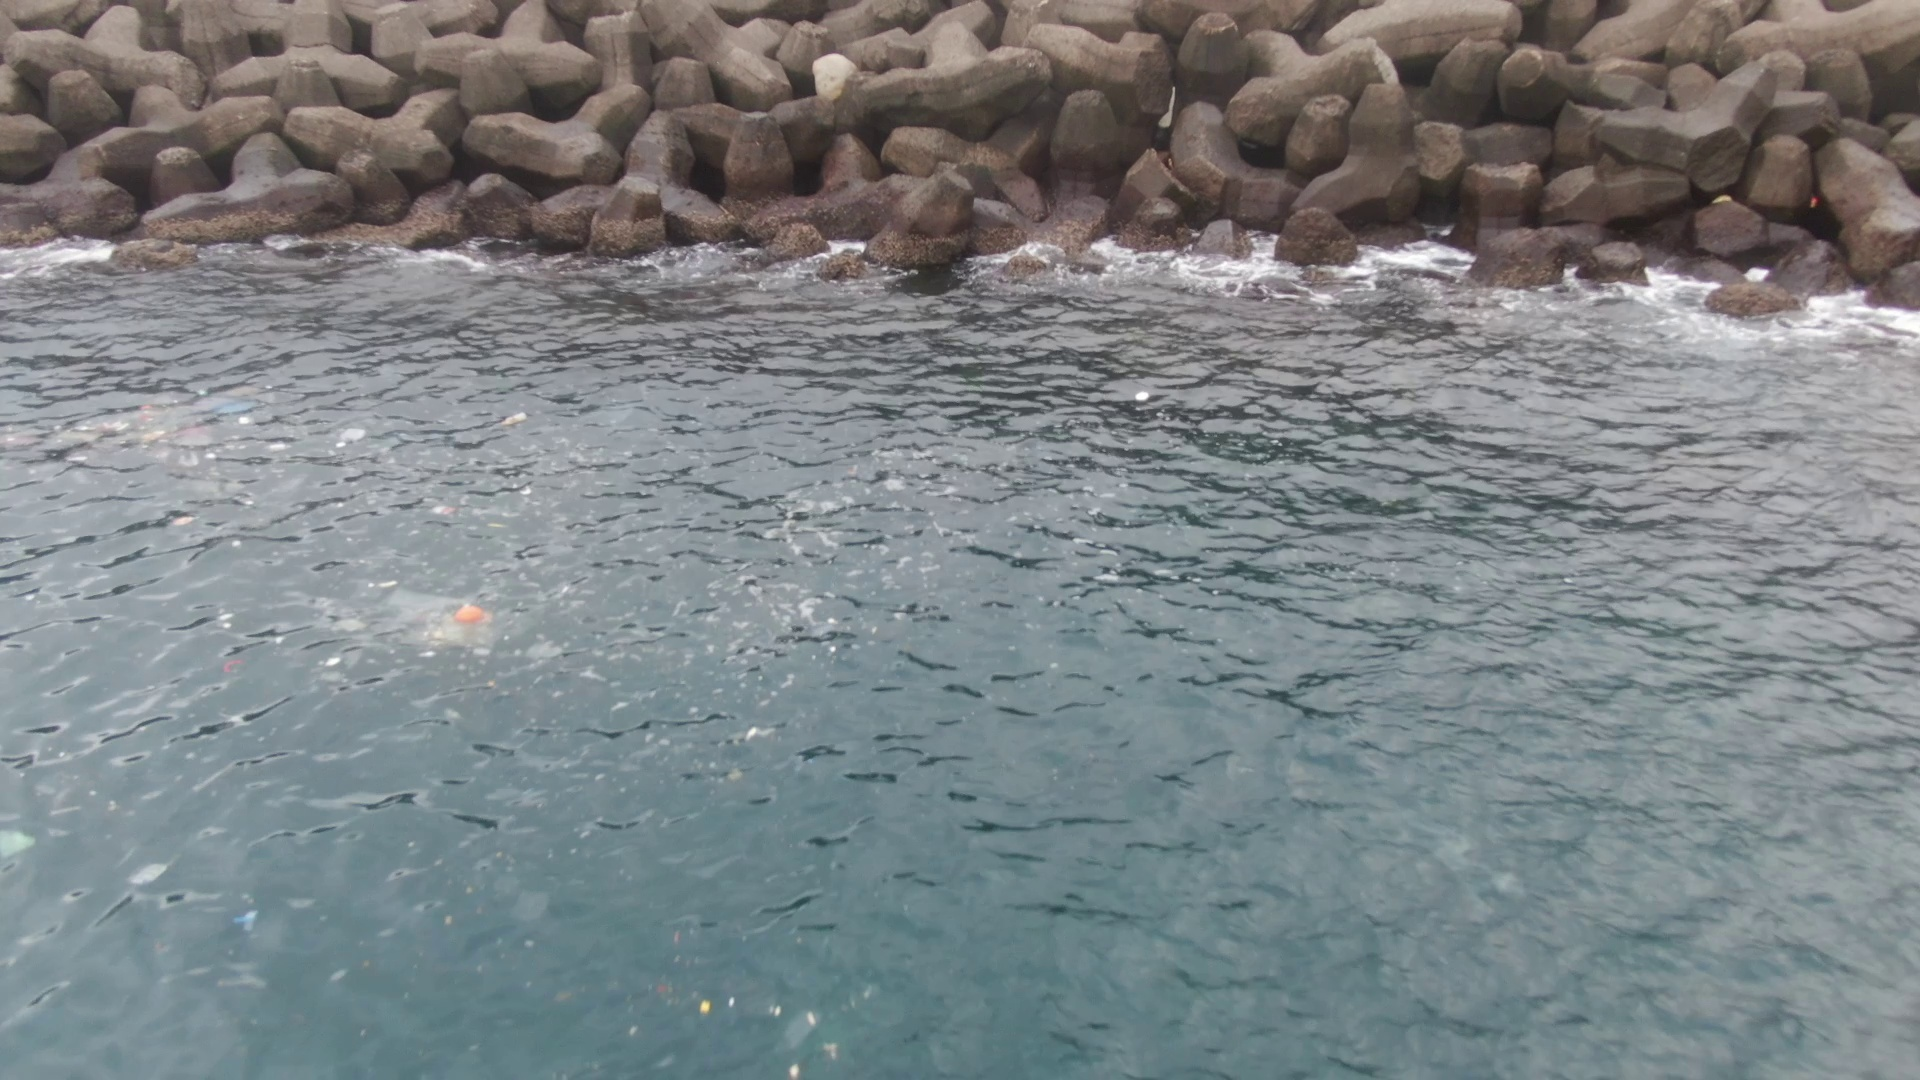garbage: (440, 593, 509, 638)
